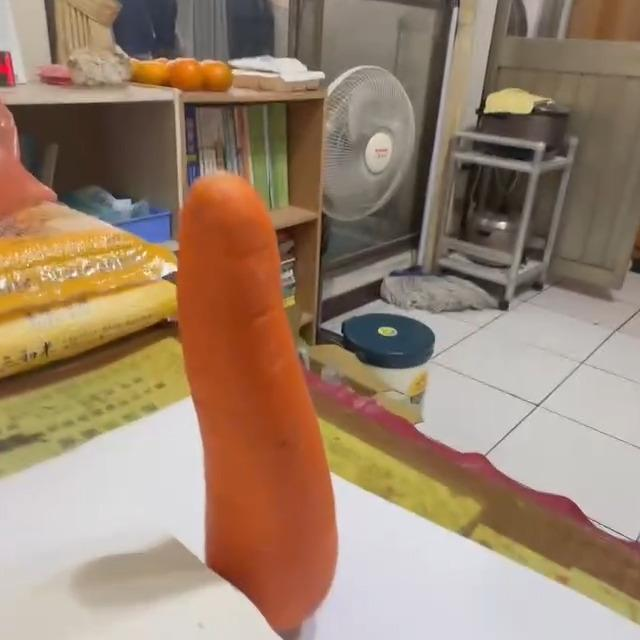carrot: (173, 168, 341, 634)
